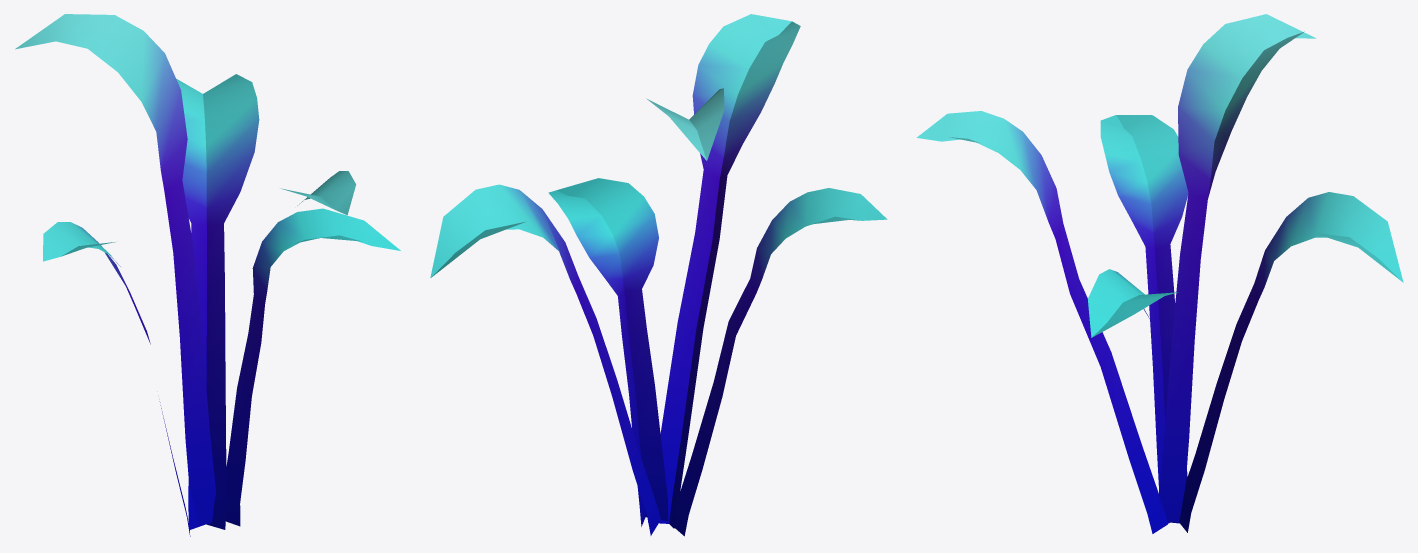
Rendered from SM_Env_Fern_04.gltf.
The picture shows the model from 3 angles, left to right: view 1: azimuth 30°, elevation 25°; view 2: azimuth 150°, elevation 25°; view 3: azimuth 270°, elevation 25°; orthographic projection. The views are drawn at different scales.
Visible parts, largest first — view 1: SM_Env_Fern_04_LOD0; view 2: SM_Env_Fern_04_LOD0; view 3: SM_Env_Fern_04_LOD0.
Boxes of the visible parts, bbox=[...] form: SM_Env_Fern_04_LOD0: bbox=[15, 14, 400, 536]; SM_Env_Fern_04_LOD0: bbox=[430, 14, 887, 536]; SM_Env_Fern_04_LOD0: bbox=[916, 14, 1403, 533].
Bounding box in the file's own units: 2.39 × 3.22 × 3.05.
